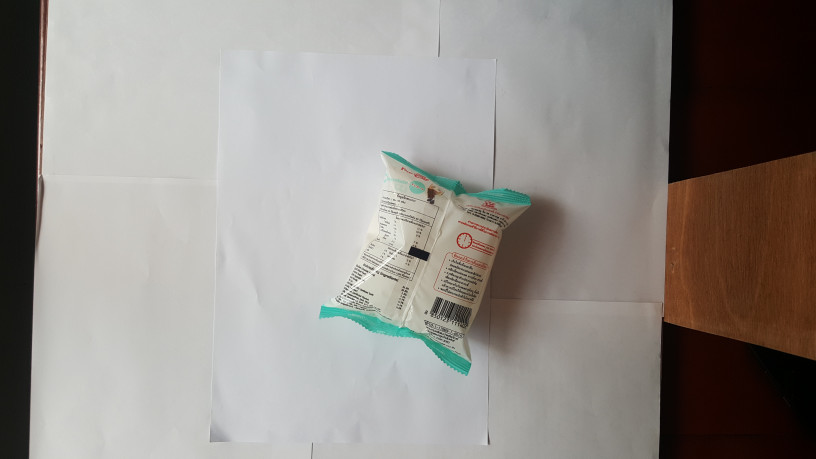farmhouse-sweetsandwich-chocolate: (314, 148, 530, 377)
